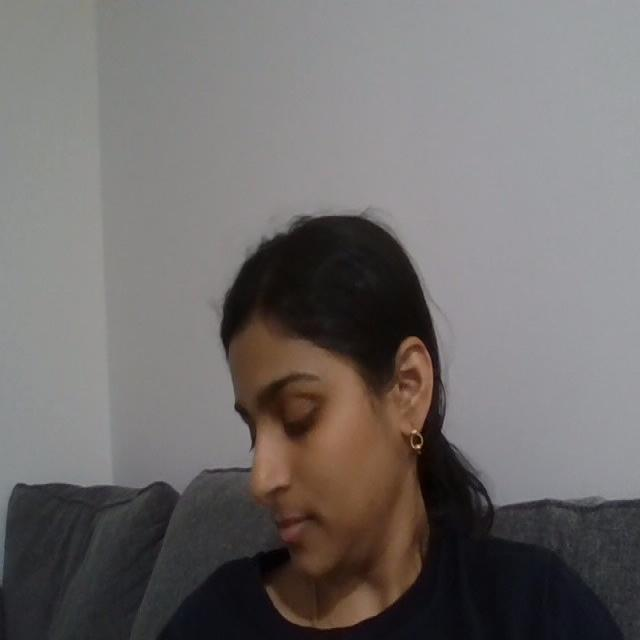No Hat: (149, 183, 372, 360)
